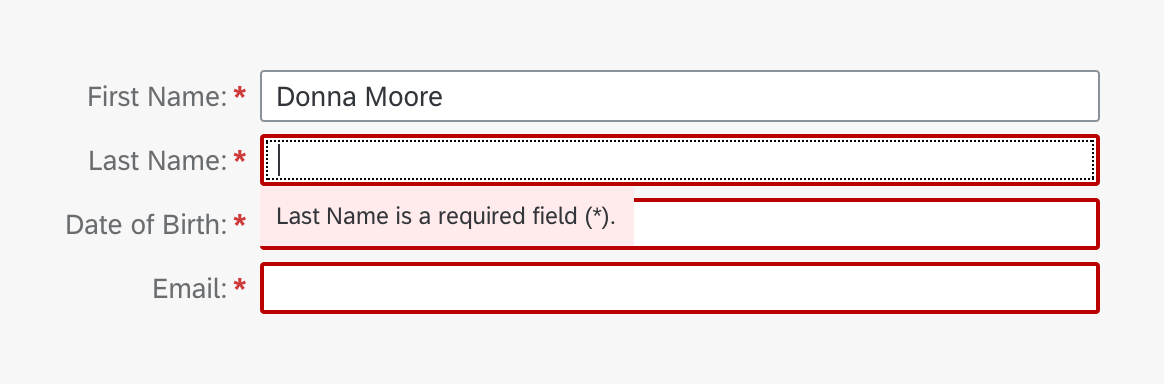error_field: (258, 259, 1102, 315), (259, 132, 1100, 186)
error_message: (273, 200, 615, 228)
